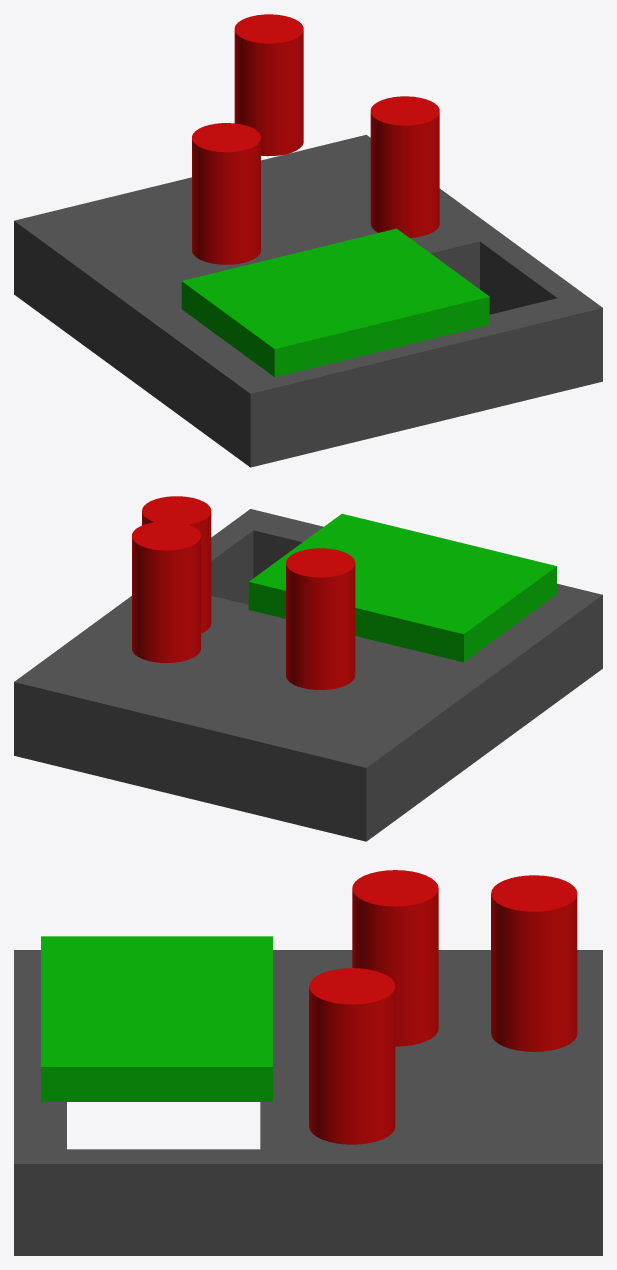
The model's file is RSUVtest2.fbx.
3 renders of one model, top to bottom at view 1: azimuth 30°, elevation 25°; view 2: azimuth 150°, elevation 25°; view 3: azimuth 270°, elevation 25°, orthographic. The views are drawn at different scales.
Parts seen in each view (by area): view 1: obj4; view 2: obj4; view 3: obj4.
Boxes of the visible parts, box(x1,y1,x2,y2) form: obj4: box(14, 14, 602, 467); obj4: box(14, 496, 602, 841); obj4: box(14, 870, 602, 1255).
Bounding box in the file's own units: 26.22 × 16.36 × 30.48.
